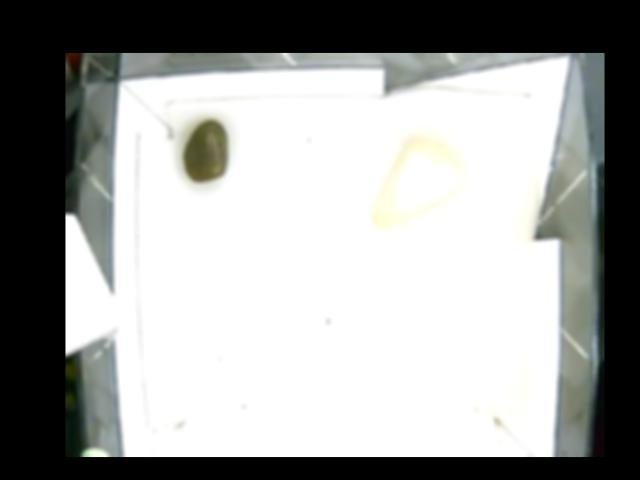Mooli: (372, 137, 461, 231)
Pebble: (182, 122, 230, 183)
